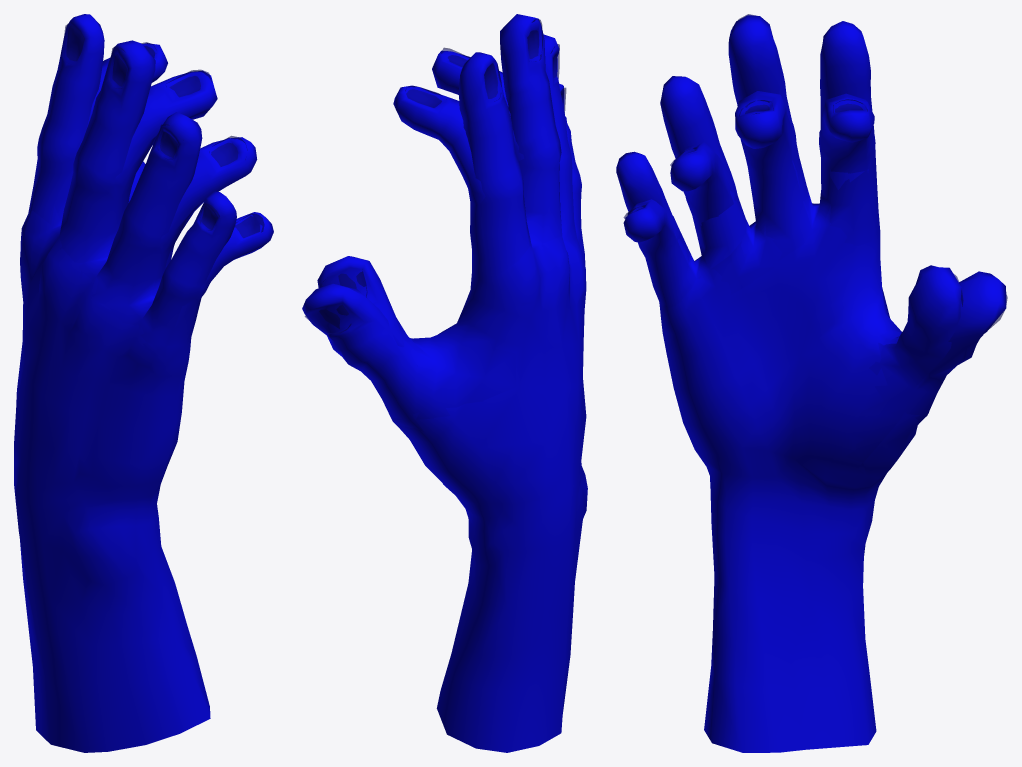
Rendered from hands.fbx.
The picture shows the model from 3 angles, left to right: view 1: azimuth 30°, elevation 25°; view 2: azimuth 150°, elevation 25°; view 3: azimuth 270°, elevation 25°; orthographic projection. The views are drawn at different scales.
Parts seen in each view (by area): view 1: open_hand2, closed_hand; view 2: closed_hand, open_hand2; view 3: open_hand2, closed_hand.
Part boxes in pixels (x1,y1,x2,y2): open_hand2: (16, 14, 236, 752); closed_hand: (14, 42, 273, 743); closed_hand: (317, 47, 587, 752); open_hand2: (302, 14, 587, 731); open_hand2: (616, 14, 1007, 752); closed_hand: (623, 91, 963, 752).
Size of the model in its own units: 104 by 360 by 177.
